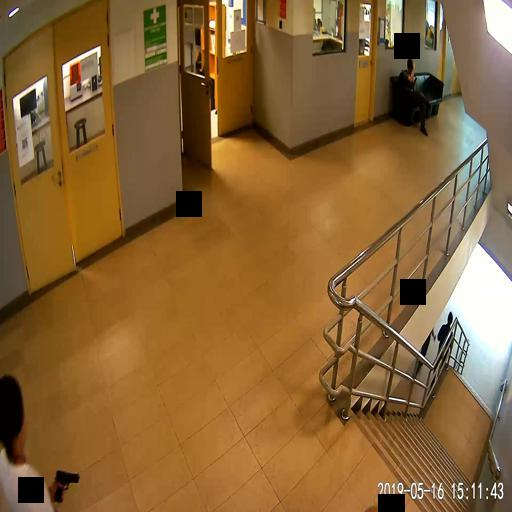Handgun: (53, 468, 78, 502)
